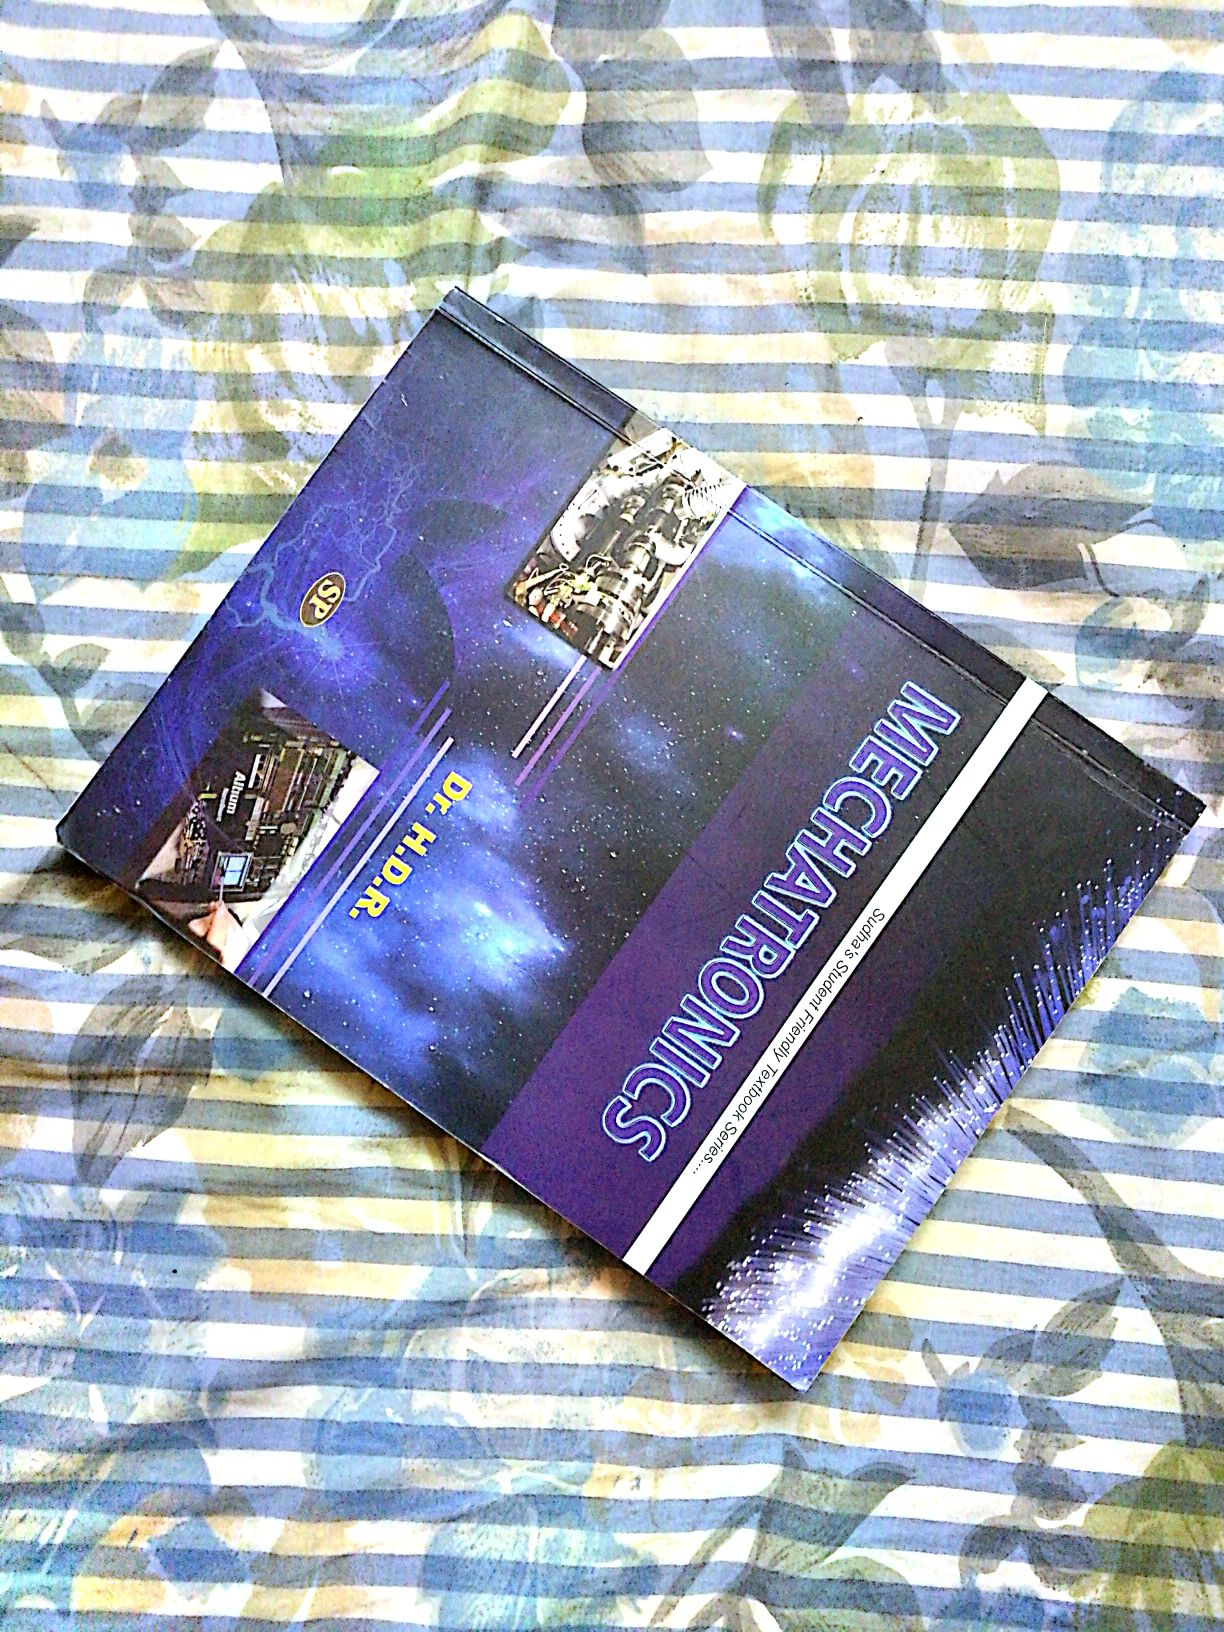mechatronics: (73, 335, 1198, 1365)
